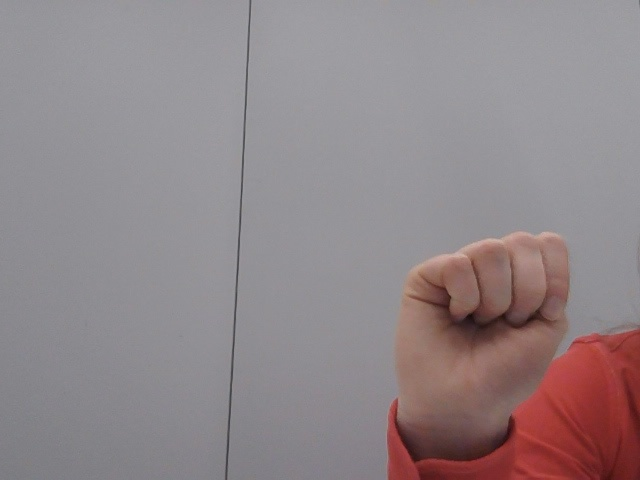down: (385, 222, 592, 480)
